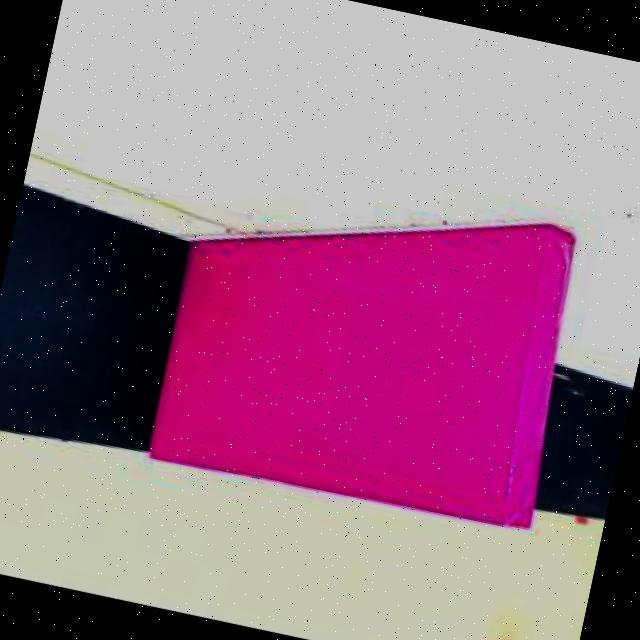xparking: (149, 207, 575, 528)
